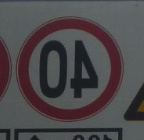Speed limit: (9, 14, 126, 125)
